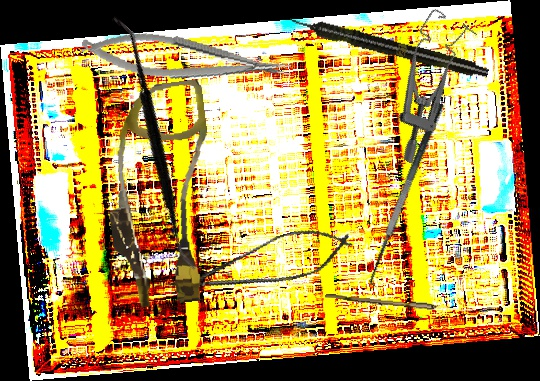Cannula: (94, 78, 228, 311)
Handpiece: (287, 11, 491, 82)
Micro Scissor: (161, 216, 360, 314)
Needle Holder: (78, 21, 294, 99)
Spatula Surgical: (23, 15, 285, 273), (360, 101, 460, 291)
Speculum: (357, 5, 490, 166)
Surgical Spoon: (324, 293, 473, 314)
